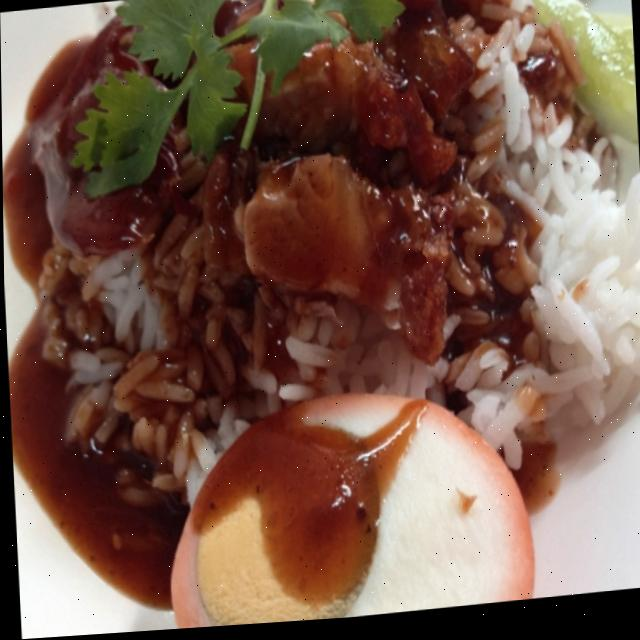猪肉菜式: (5, 0, 638, 596)
